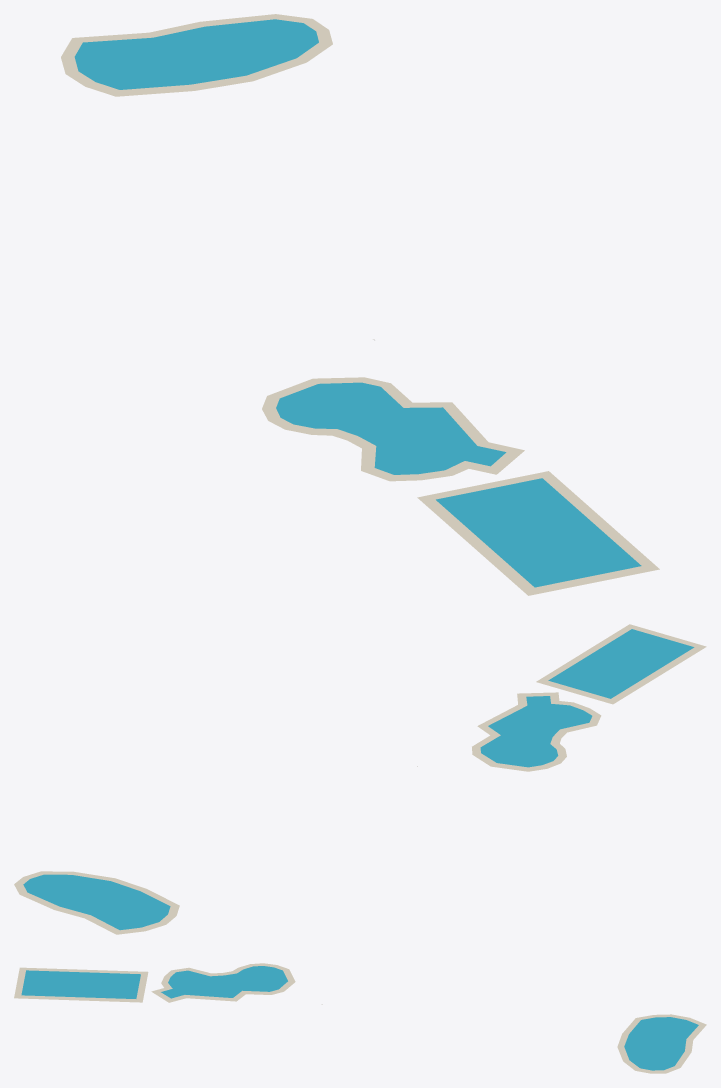
The model's file is pbpool_m21_m16.glb.
3 renders of one model, top to bottom at view 1: azimuth 30°, elevation 25°; view 2: azimuth 150°, elevation 25°; view 3: azimuth 270°, elevation 25°, orthographic. The views are drawn at different scales.
Parts seen in each view (by area): view 1: pbpool_m21_m16_lod0; view 2: pbpool_m21_m16_lod0; view 3: pbpool_m21_m16_lod0.
Part boxes in pixels (x1,y1,x2,y2): pbpool_m21_m16_lod0: (61,14,659,595); pbpool_m21_m16_lod0: (14,624,706,934); pbpool_m21_m16_lod0: (14,963,706,1073).
Size of what is drawn, in the model's own units: 49.1 by 0.2887 by 131.
